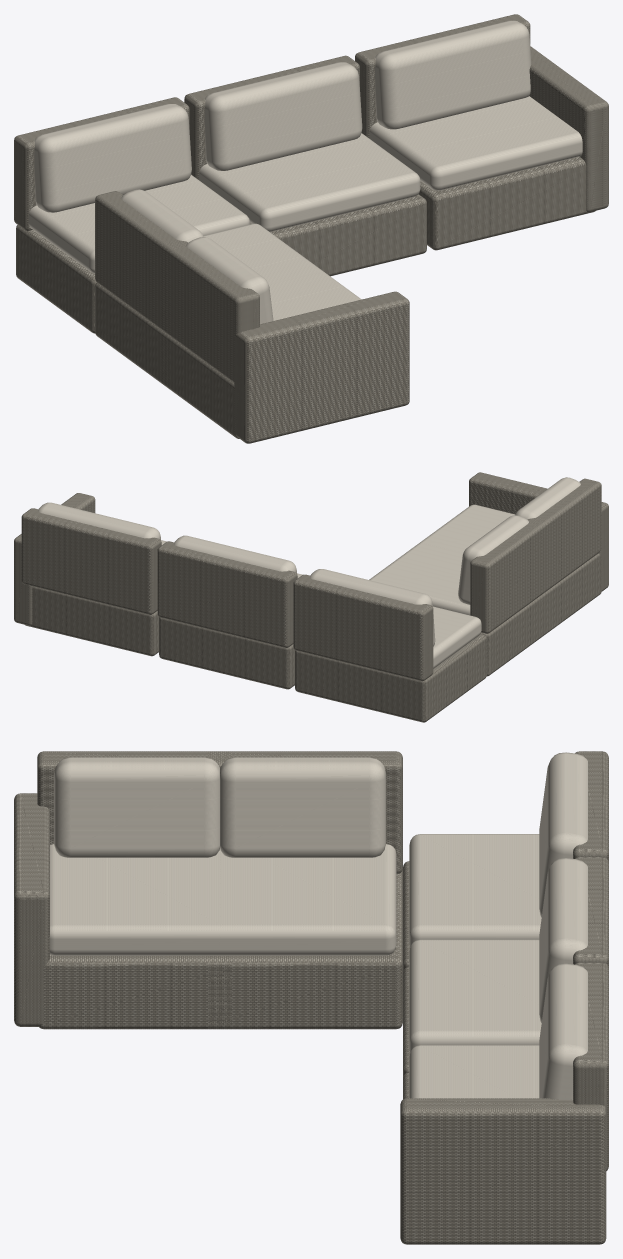
Rendered from premium-sectional.glb.
3 views of the same model, one above another, from view 1: azimuth 30°, elevation 25°; view 2: azimuth 150°, elevation 25°; view 3: azimuth 270°, elevation 25° (orthographic). The views are drawn at different scales.
Visible parts, largest first — view 1: premium-sectional; view 2: premium-sectional; view 3: premium-sectional.
Part boxes in pixels (x1,y1,x2,y2): premium-sectional: [14, 14, 608, 443]; premium-sectional: [14, 472, 608, 722]; premium-sectional: [14, 751, 608, 1244].
Bounding box in the file's own units: 2.94 × 0.801 × 2.31.
2 materials, 2 textured.
